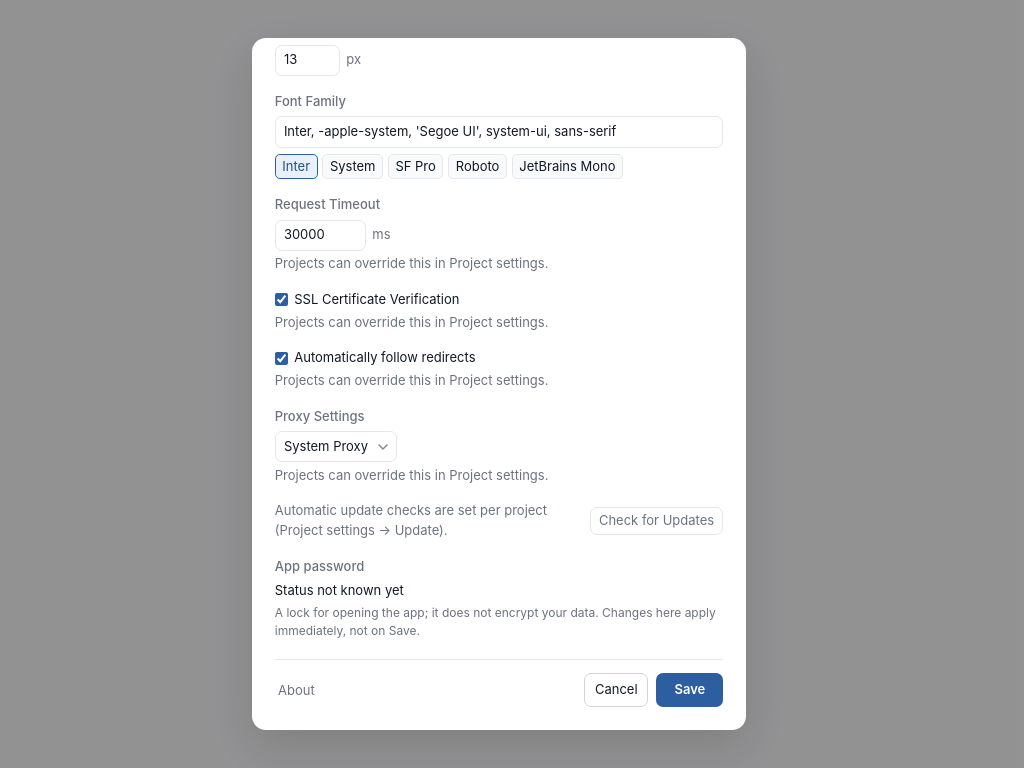
Settings: a failed save is not reported as success (APP-5) › keeps the modal open, shows the reason, and never claims "saved"
(page scrolled)
Click the button "Save" at coordinates (690, 690), box [656,673,723,707]
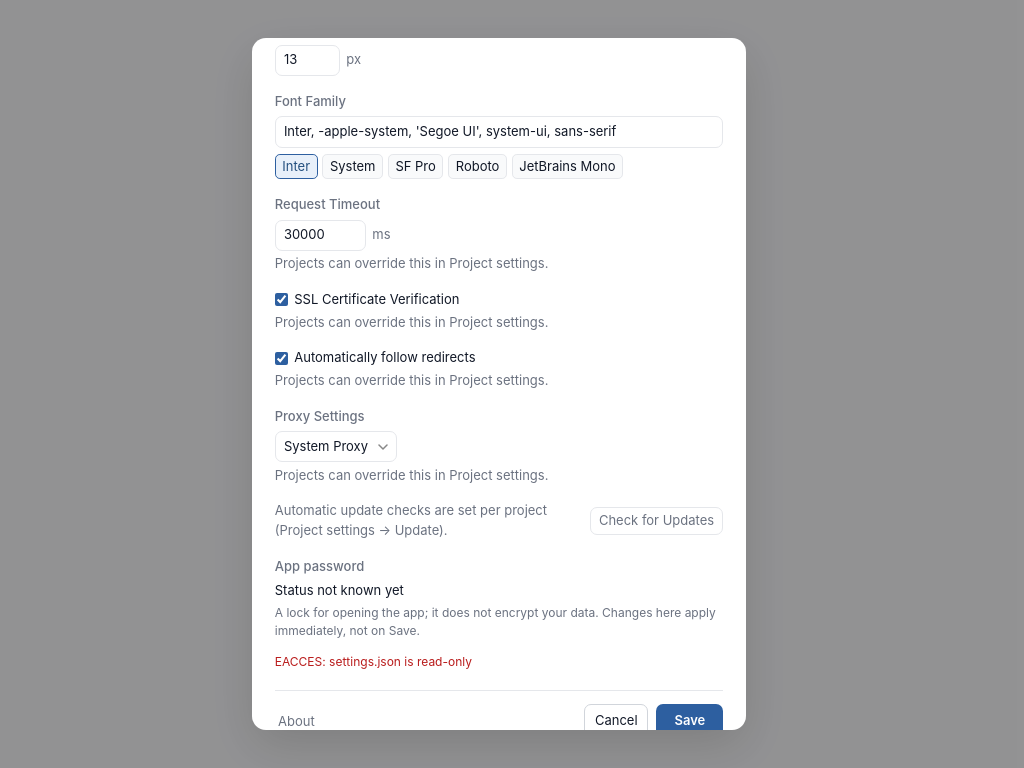
Expected: the button "Save" is shown, [656,704,723,730]
Now the text "EACCES: settings.json is read-only" is shown, box [275,654,472,669]
